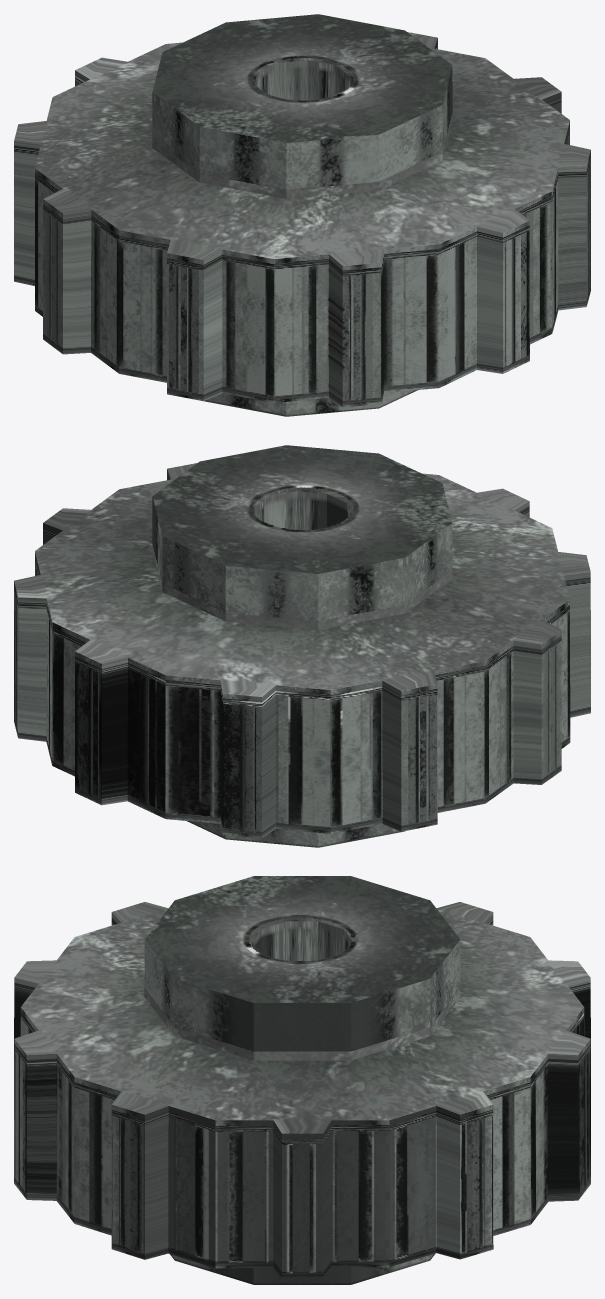
The model's file is Gear.fbx.
3 views of the same model, one above another, from view 1: azimuth 30°, elevation 25°; view 2: azimuth 150°, elevation 25°; view 3: azimuth 270°, elevation 25° (orthographic). The views are drawn at different scales.
Parts seen in each view (by area): view 1: GearLow; view 2: GearLow; view 3: GearLow.
Boxes of the visible parts, x1=… form: GearLow: x1=14, y1=14, x2=590, y2=416; GearLow: x1=14, y1=445, x2=590, y2=847; GearLow: x1=14, y1=876, x2=590, y2=1284.
Size of the model in its own units: 50.56 by 26.52 by 49.19.
